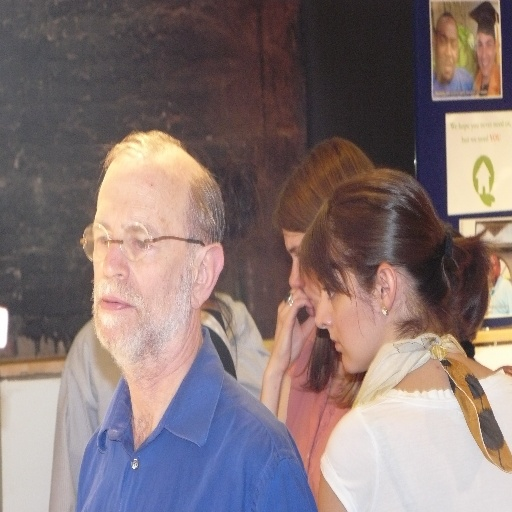hand: (264, 278, 324, 415)
